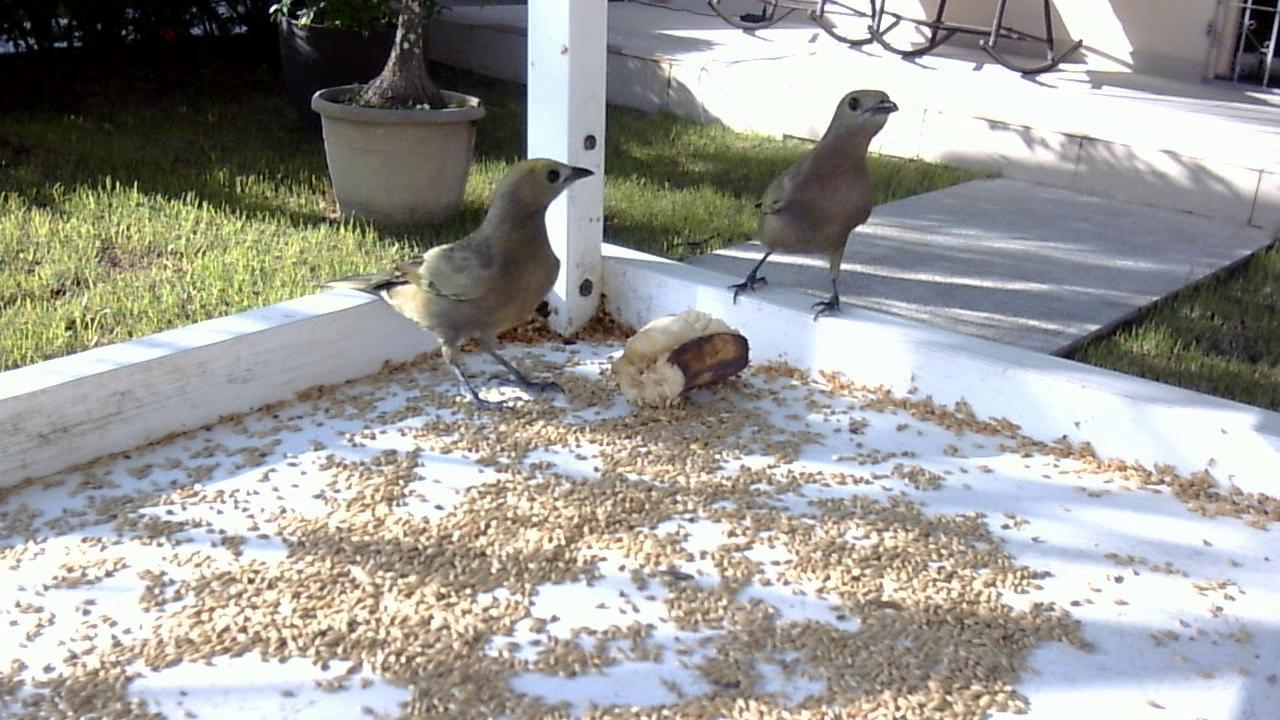sanhaco_do_coqueiro: (338, 155, 592, 414), (714, 80, 914, 324)
